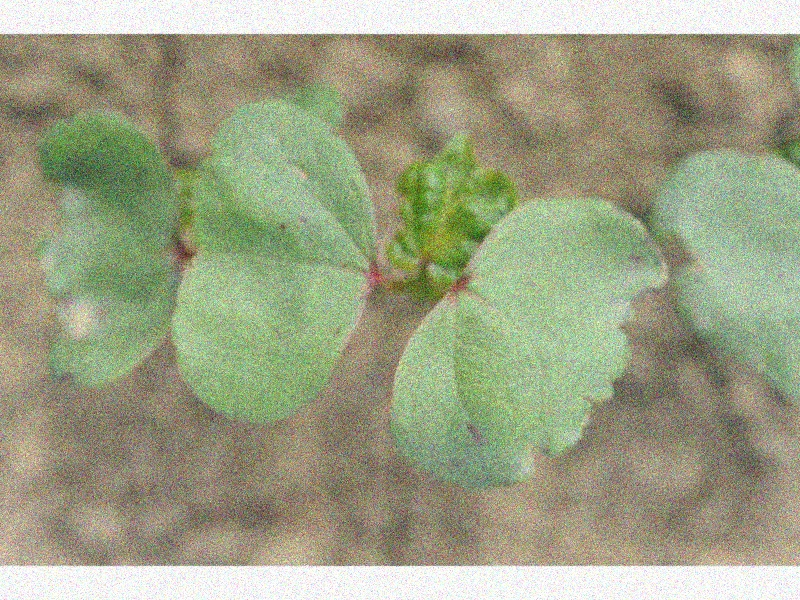cotton: (38, 97, 800, 484)
